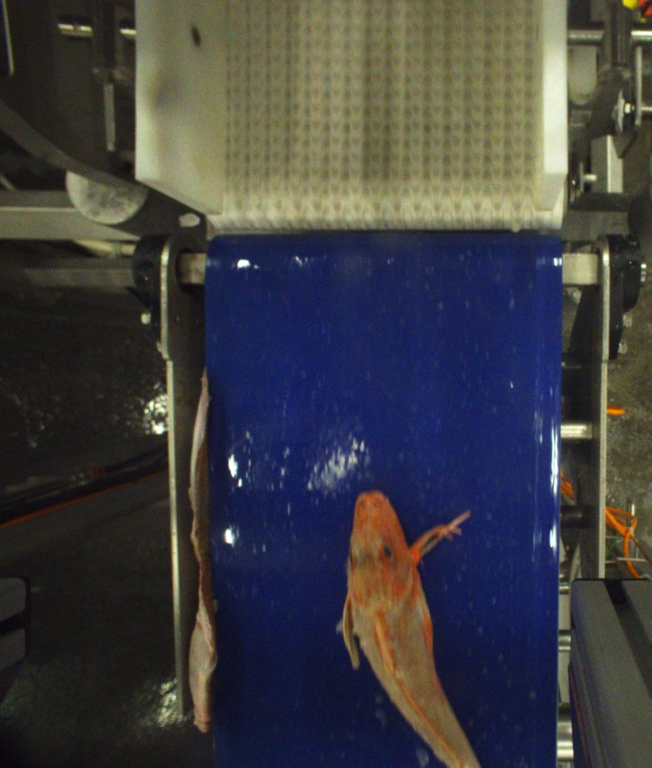GUU: (338, 489, 484, 768)
